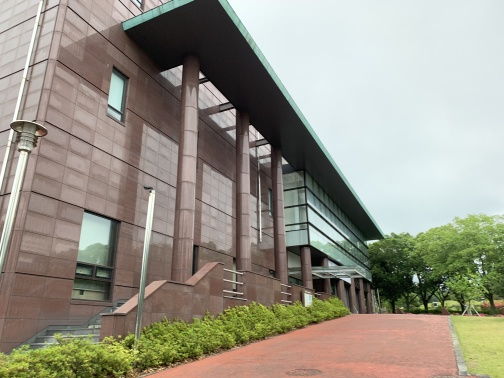Museum: (102, 2, 390, 358)
